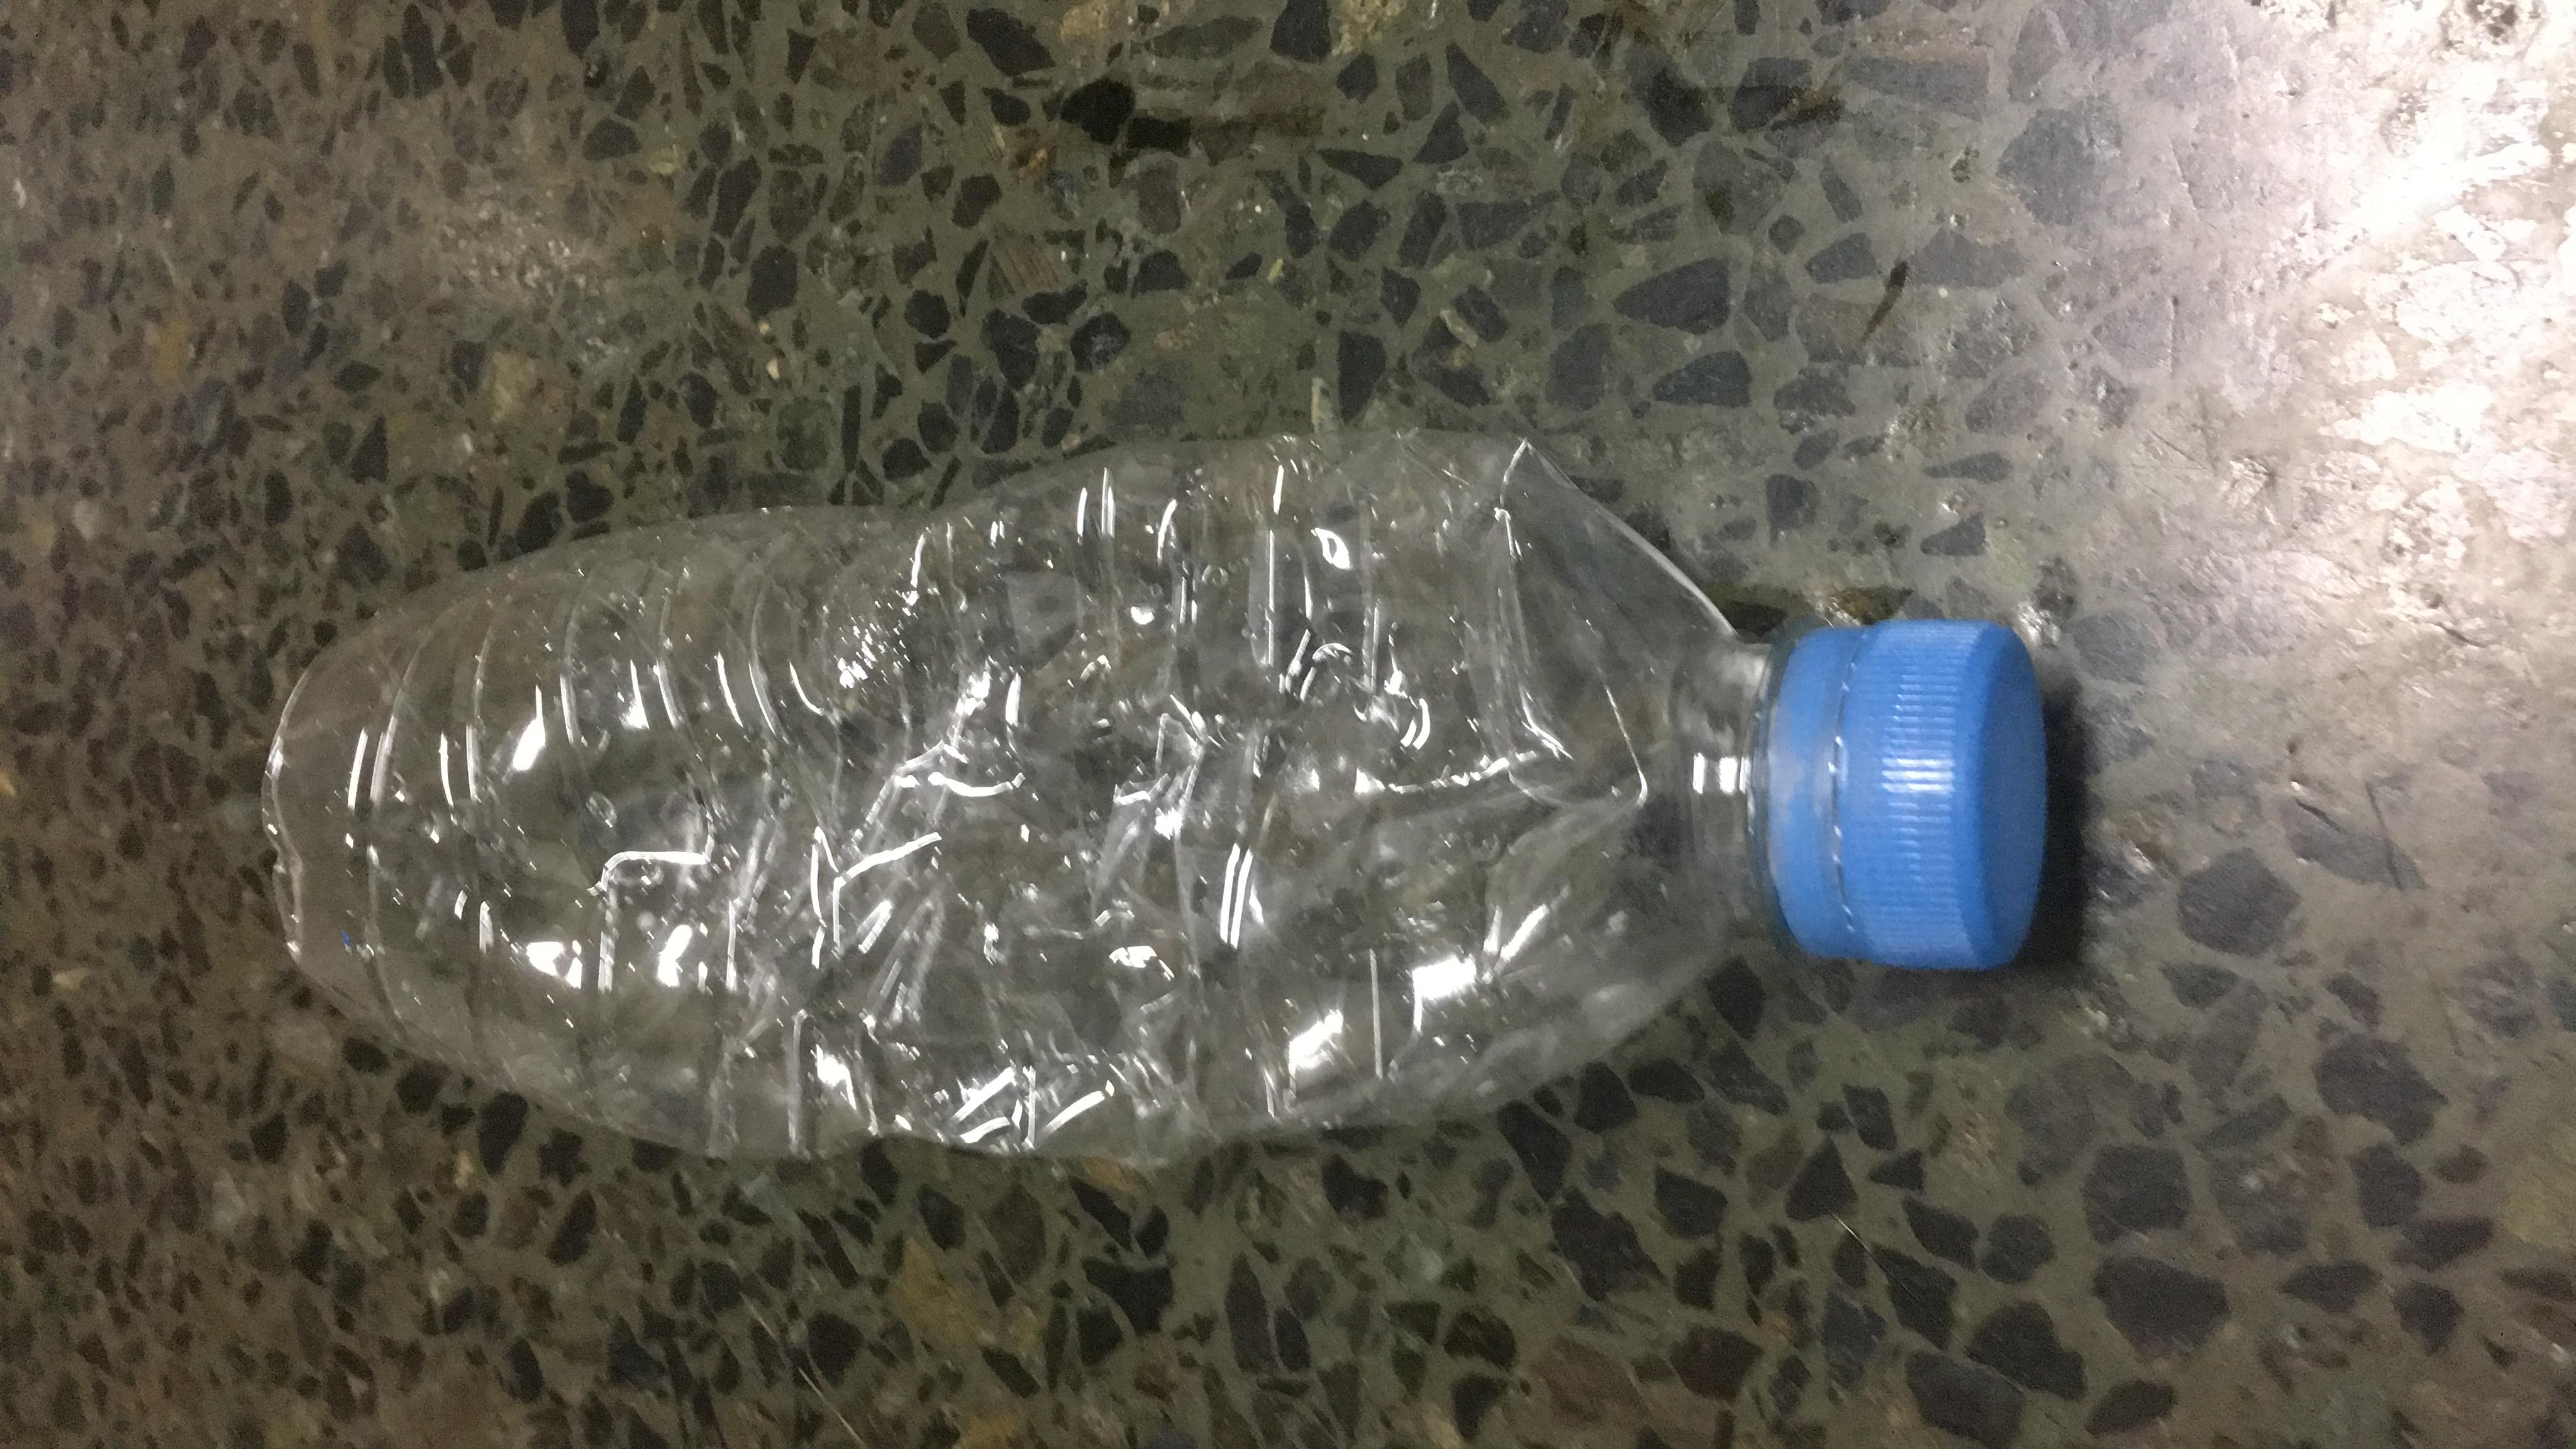bottle: (529, 138, 1905, 1122)
